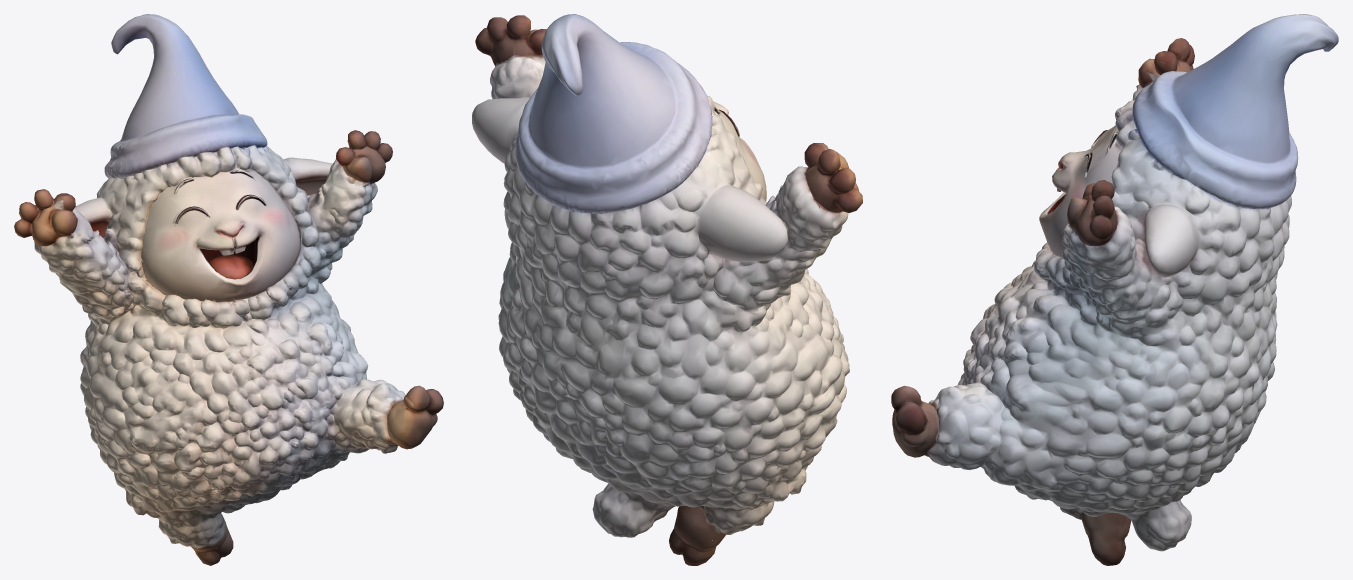
Rendered from sheep.glb.
3 views of the same model, side by side, from view 1: azimuth 30°, elevation 25°; view 2: azimuth 150°, elevation 25°; view 3: azimuth 270°, elevation 25° (orthographic). The views are drawn at different scales.
Size of the model in its own units: 0.7194 by 0.9781 by 0.7054.
Materials: 1 (1 with a texture image).
